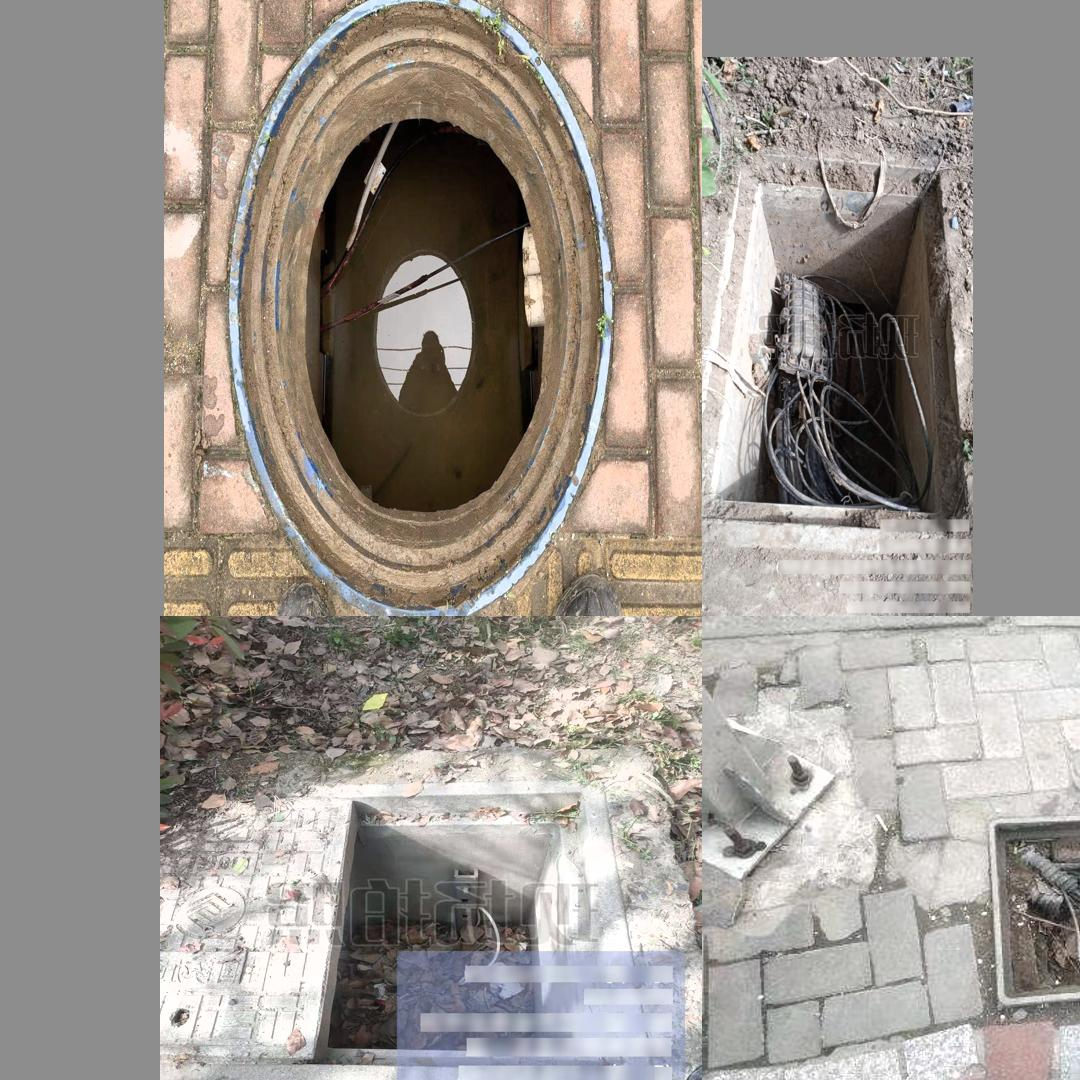lose: (229, 0, 614, 616), (162, 770, 669, 1080), (707, 139, 964, 542), (964, 795, 1080, 1032)
